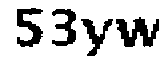3: (50, 5, 79, 50)
5: (10, 5, 47, 52)
w: (114, 12, 160, 51)
y: (81, 13, 114, 60)
